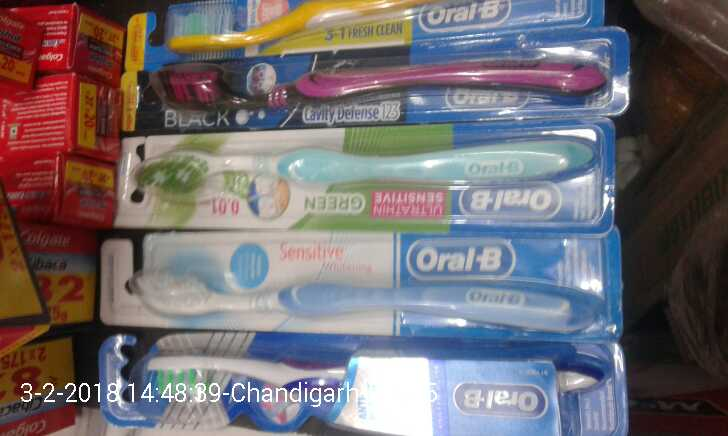oralb: (109, 241, 610, 333), (111, 334, 604, 421), (137, 137, 591, 212), (158, 59, 598, 116)
